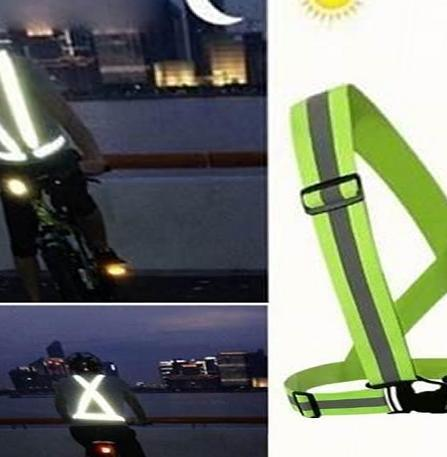Vest: (56, 372, 128, 427)
